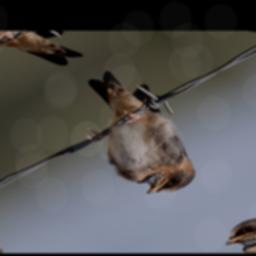Swallow: (22, 65, 253, 203)
